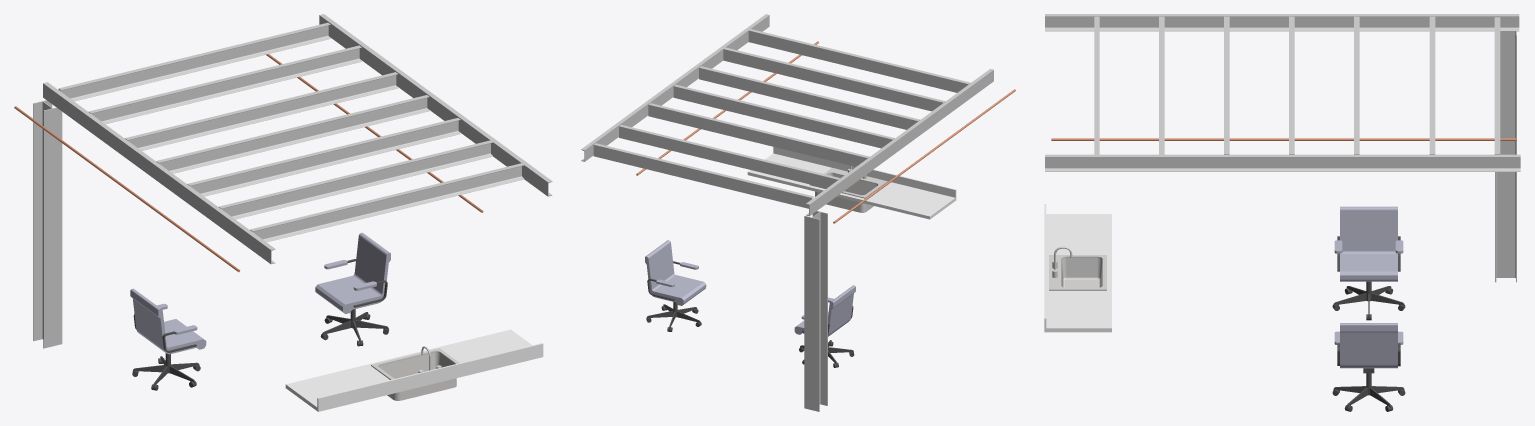
The model's file is MEP_Level1.glb.
3 renders of one model, left to right at view 1: azimuth 30°, elevation 25°; view 2: azimuth 150°, elevation 25°; view 3: azimuth 270°, elevation 25°, orthographic. The views are drawn at different scales.
Visible parts, largest first — view 1: Mat_128891, Mat_450621, Mat_464671, Mat_464672, Mat_450622, Mat_164754; view 2: Mat_128891, Mat_450621, Mat_464671, Mat_450622, Mat_464672, Mat_164754; view 3: Mat_128891, Mat_464671, Mat_450621, Mat_450622, Mat_464672, Mat_164754.
Boxes of the visible parts, left/top/right/bottom form: Mat_128891: left=33, top=14, right=552, bottom=348; Mat_450621: left=285, top=329, right=543, bottom=411; Mat_464671: left=130, top=232, right=390, bottom=354; Mat_464672: left=132, top=259, right=388, bottom=390; Mat_450622: left=371, top=346, right=459, bottom=400; Mat_164754: left=14, top=54, right=483, bottom=272; Mat_128891: left=581, top=14, right=993, bottom=411; Mat_450621: left=747, top=147, right=956, bottom=219; Mat_464671: left=645, top=240, right=855, bottom=336; Mat_450622: left=809, top=165, right=887, bottom=212; Mat_464672: left=646, top=261, right=854, bottom=367; Mat_164754: left=636, top=41, right=1015, bottom=223; Mat_128891: left=1045, top=14, right=1520, bottom=282; Mat_464671: left=1334, top=206, right=1403, bottom=368; Mat_450621: left=1044, top=204, right=1111, bottom=332; Mat_450622: left=1049, top=246, right=1106, bottom=290; Mat_464672: left=1332, top=236, right=1405, bottom=411; Mat_164754: left=1051, top=138, right=1516, bottom=140.
Bounding box in the file's own units: 3.46 × 2.7 × 4.4.
